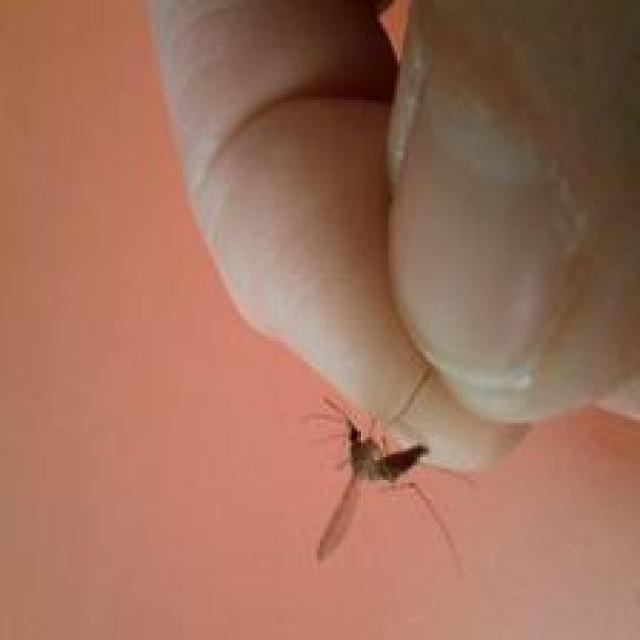Culex: (303, 373, 471, 576)
